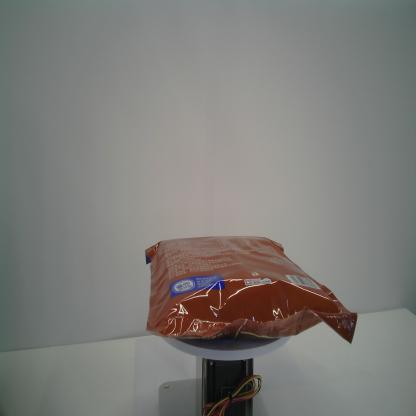Dried Food: (144, 235, 358, 346)
